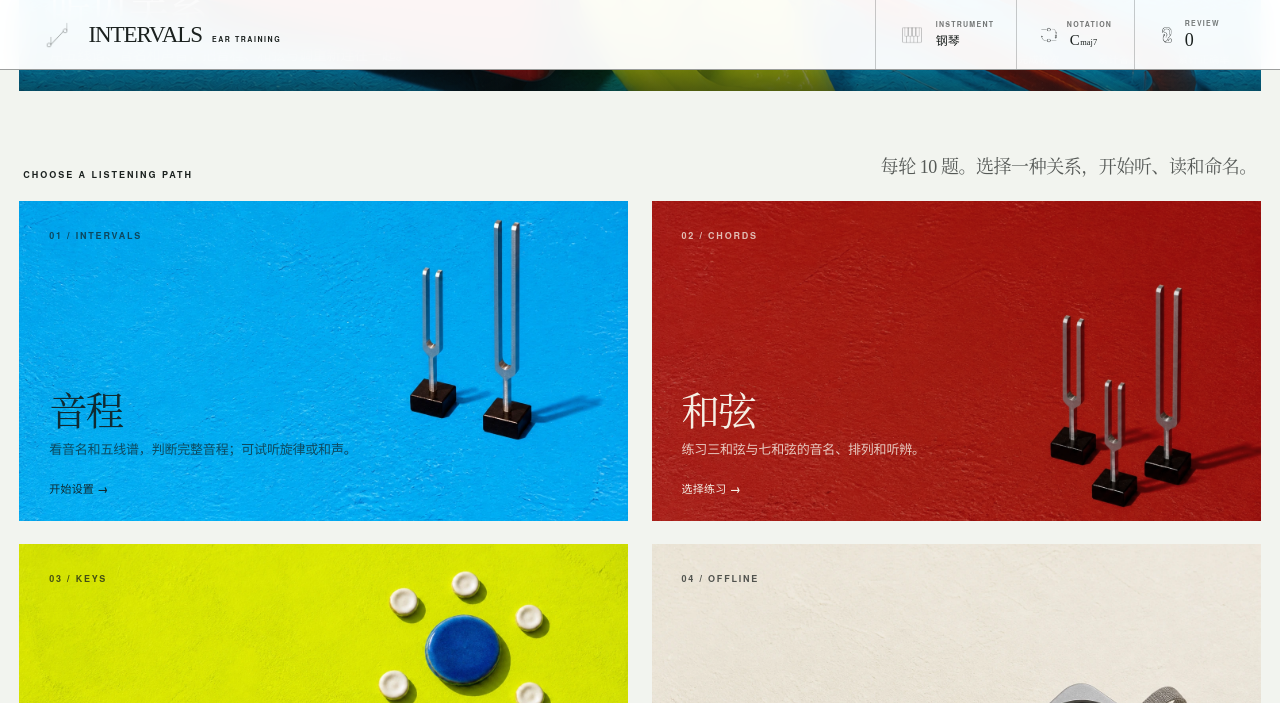
App quiz navigation and triad playback › uses arrow keys and Enter to answer an interval while the option grid is focused
(page scrolled)
Click the button "01 / INTERVALS 音程 看音名和五线谱，判断完整音程；可试听旋律或和声。 开始设置 →" at coordinates (324, 361), box [19,201,628,521]
(page scrolled)
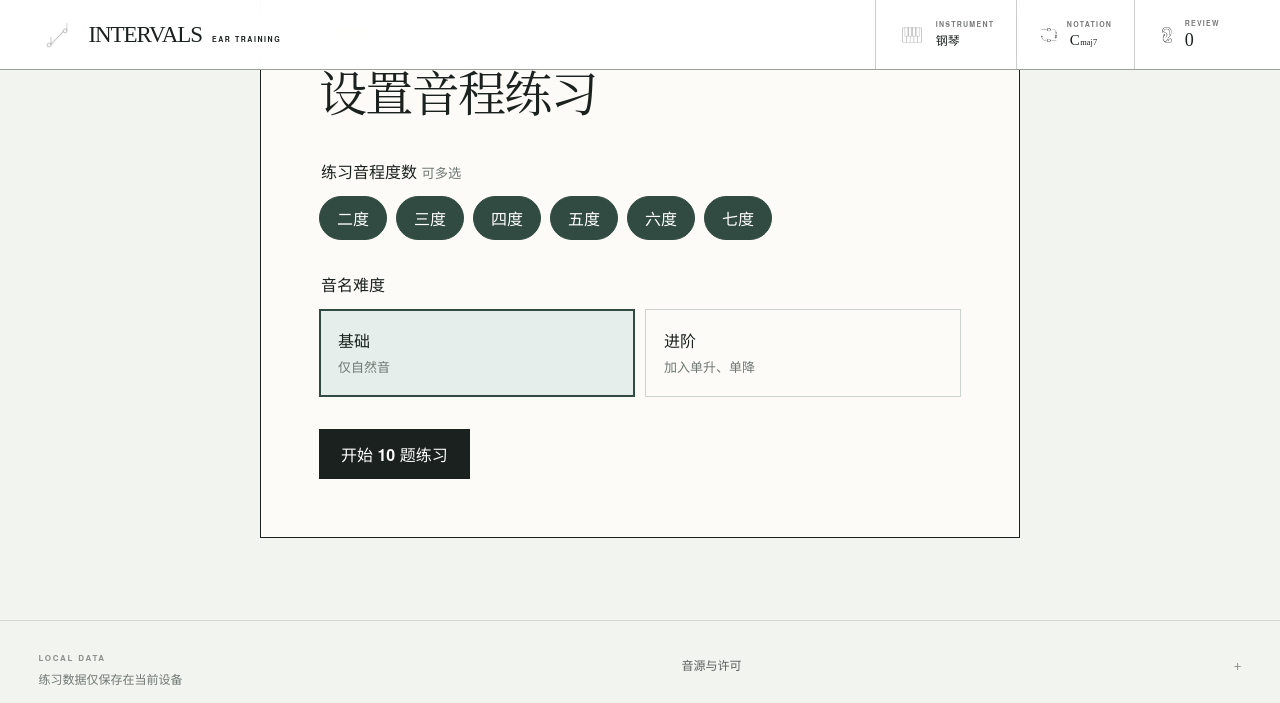
Click the button "开始 10 题练习" at coordinates (394, 454), box [319,429,470,479]
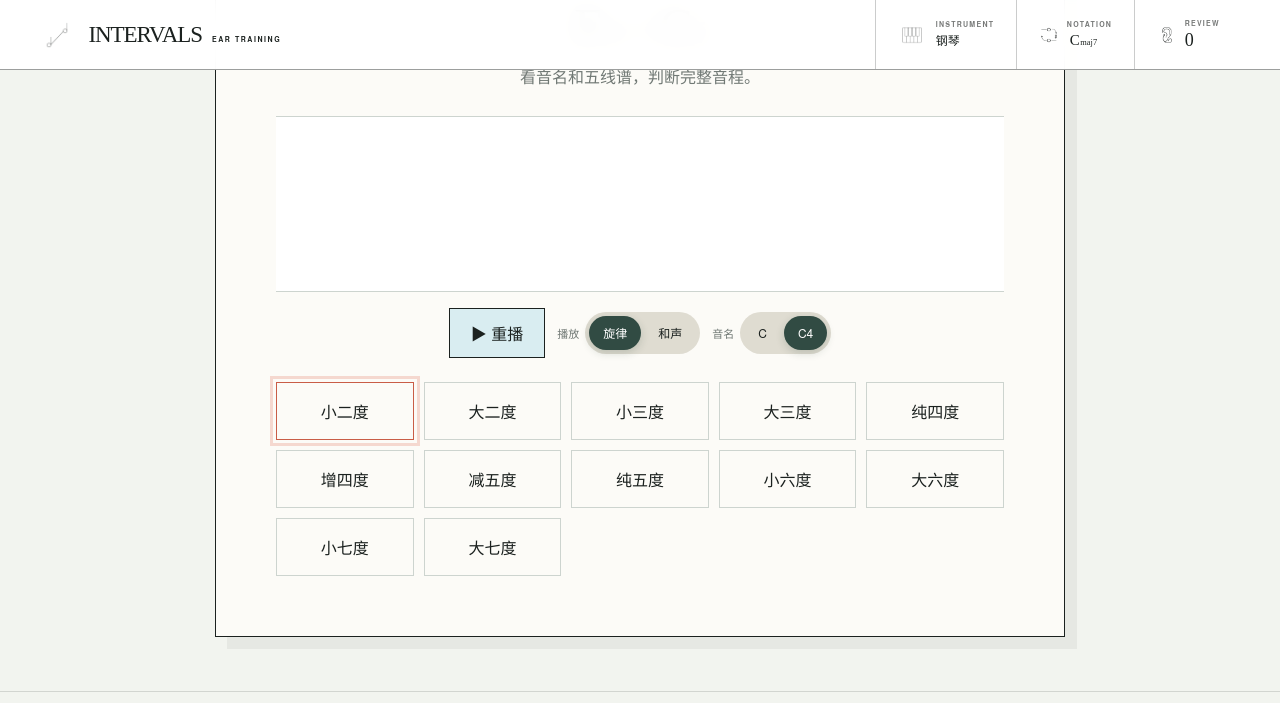
Press ArrowRight in the button with class "answer-option" showing "小二度", box [276,382,414,440]
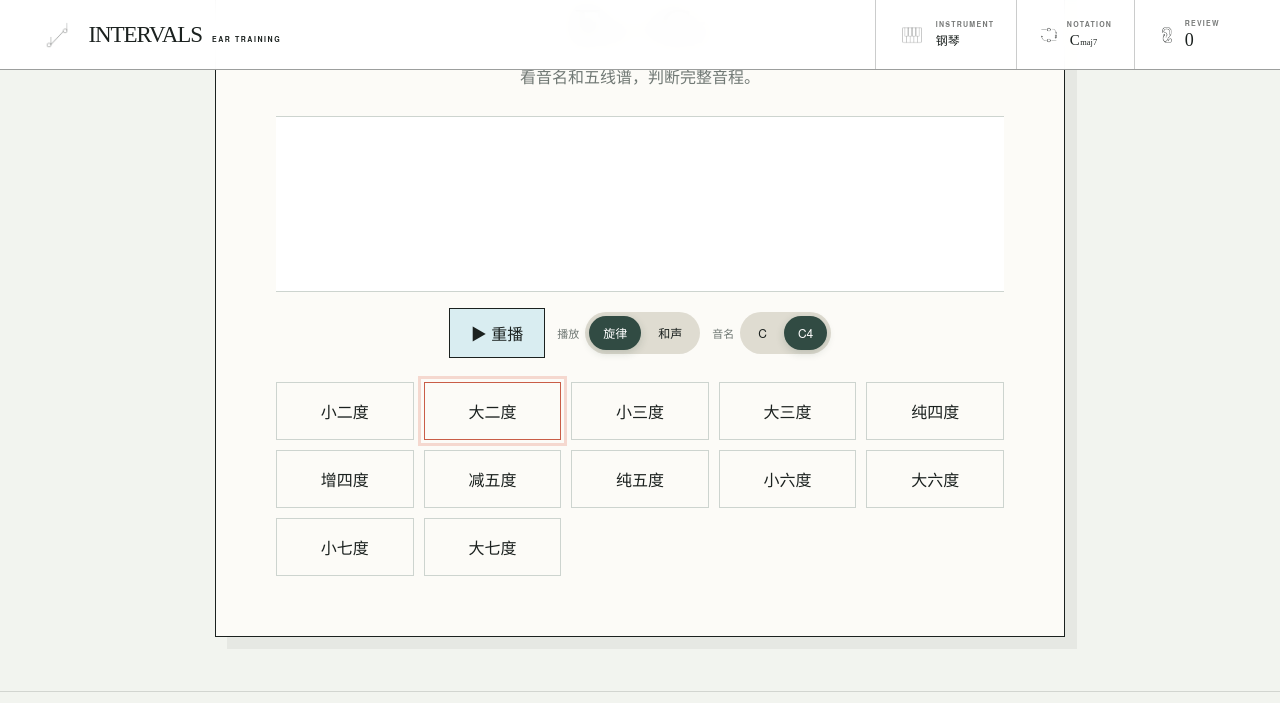
Press Enter in the button with class "answer-option" showing "大二度", box [424,382,561,440]
(page scrolled)
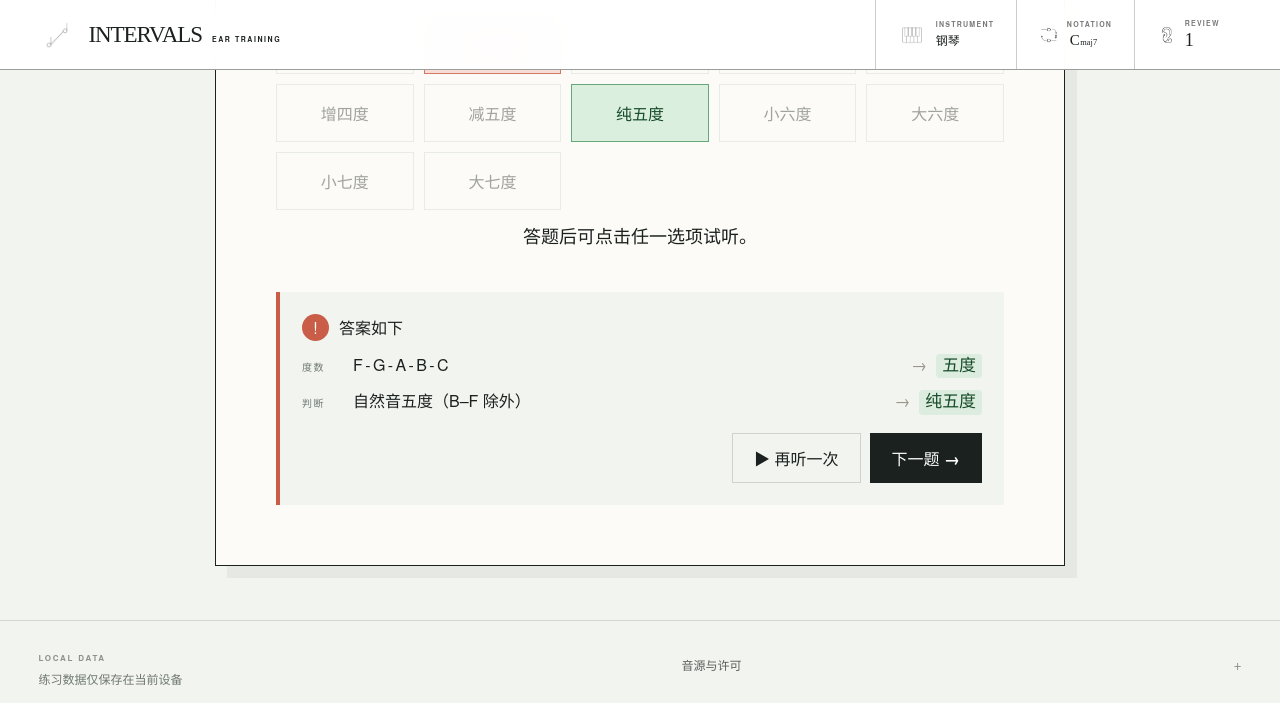
Press Space in the message, box [276,292,1004,505]
Press Enter in the message, box [276,292,1004,505]
(page scrolled)
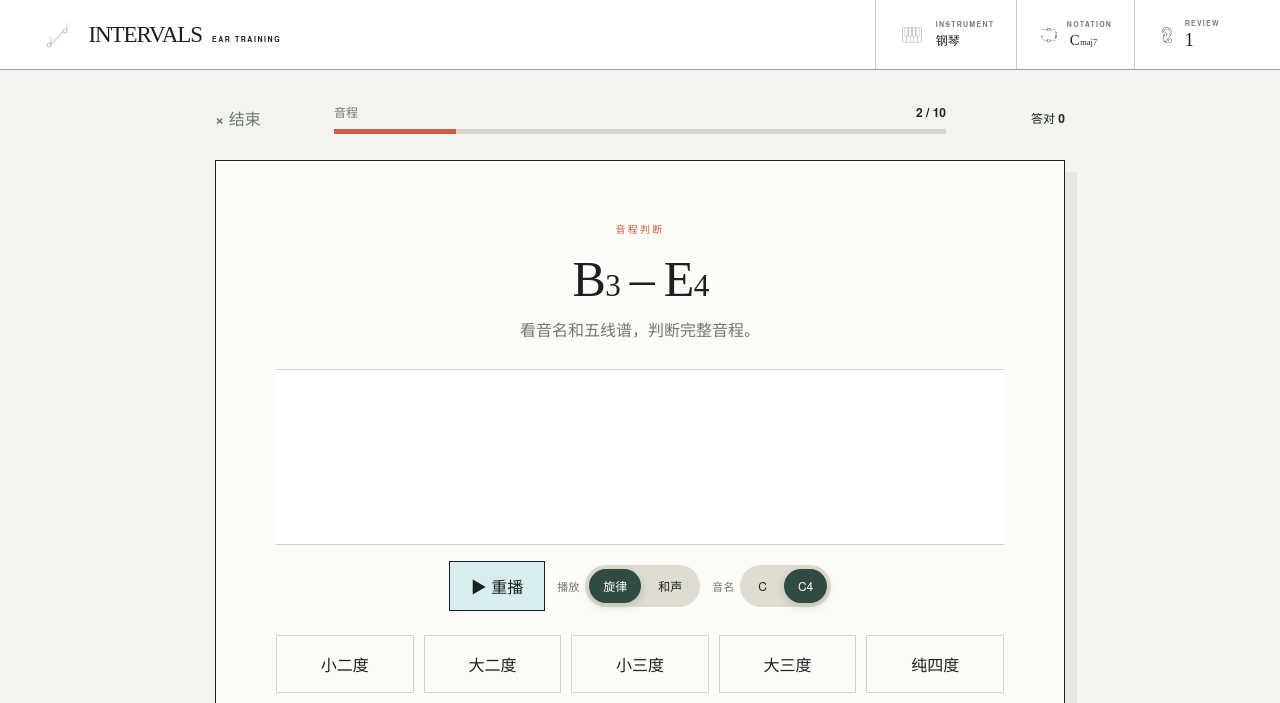
Check: the text "2 / 10" is shown, box [916,102,946,120]
